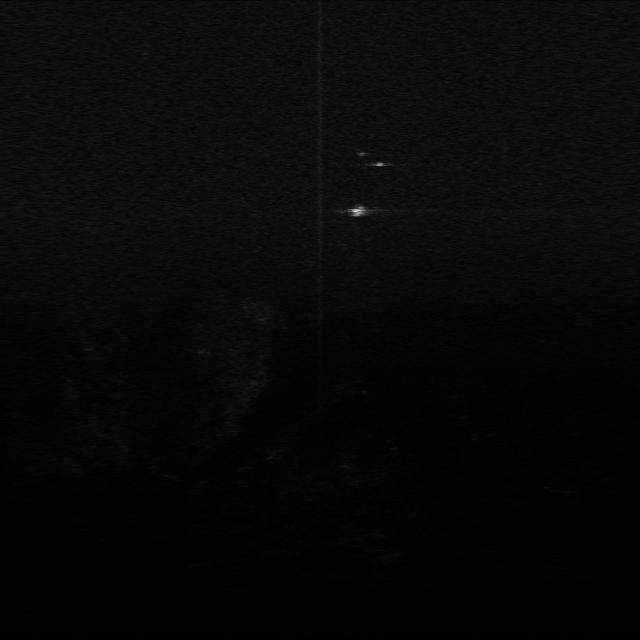rov: (343, 201, 372, 219)
